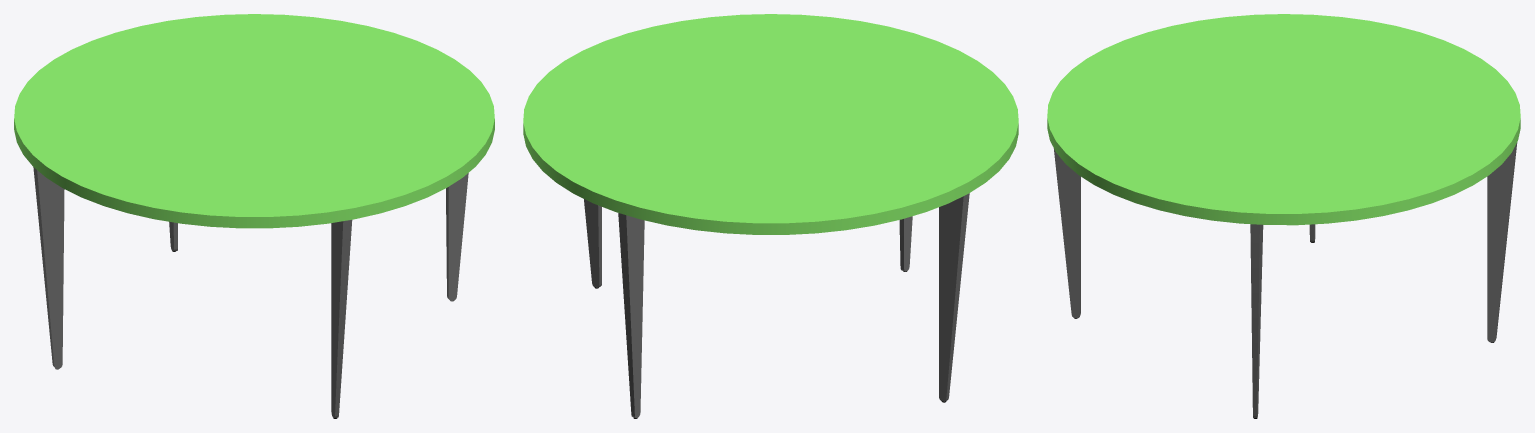
Rendered from IKEA-Vika_Manne_Table-3D.DAE.
3 views of the same model, side by side, from view 1: azimuth 30°, elevation 25°; view 2: azimuth 150°, elevation 25°; view 3: azimuth 270°, elevation 25° (orthographic). The views are drawn at different scales.
Visible parts, largest first — view 1: Cylinder02-Pivot; view 2: Cylinder02-Pivot; view 3: Cylinder02-Pivot.
Part boxes in pixels (left/top/right/bottom): Cylinder02-Pivot: left=14, top=14, right=494, bottom=418; Cylinder02-Pivot: left=523, top=14, right=1018, bottom=418; Cylinder02-Pivot: left=1047, top=14, right=1520, bottom=418.
Size of the model in its own units: 1077 by 542 by 1077.
